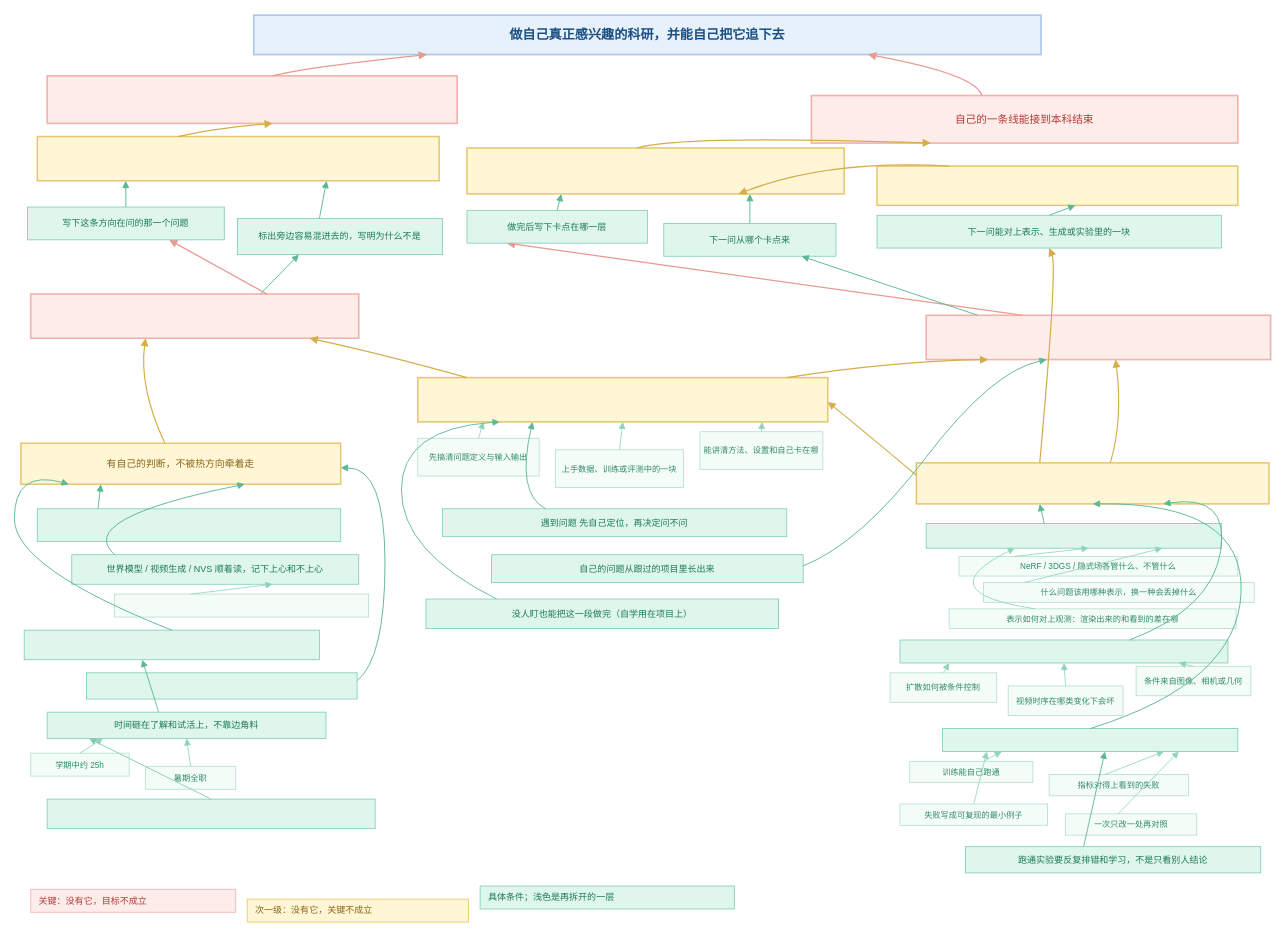
The diagram is 1286 pixels wide and 936 high, and some of its shapes have lost their labels. Here are the shapes that lost their labels. From the top down, the centre of each, then its label:
(252,99): 细方向能沿住，直到本科结束
(237,158): 能画出这条细方向的地图：它在问什么，旁边哪些不是
(655,170): 第一个做完，能指出下一问从哪个卡点长出来
(1057,185): 能力从「够跟项目」长到「够自己提下一问」
(194,316): 找到自己真正上心的细方向 验收：亲手试过至少两块不同的活，能说出上心和不上心的差别
(1098,337): 开得动自己的 project 验收：下一问从跟过的项目里长出来，不是另找一个热词
(622,399): 跟完一个项目并上手其中一块 能讲清自己做了什么、卡在哪
(1092,483): 表示、生成、实验够用 验收：能用这三块解释试过的活，并指出卡在哪
(188,525): 能够对研究领域建立自己的判断和了解
(1073,535): 三维表示
(241,605): 一篇论文能讲清问题、方法，以及自己信不信它的实验
(171,644): 从不同线上亲手各试一块
(1063,651): 生成
(221,685): 过一段再问：这还是不是我想做的
(1090,740): 实验
(210,813): 本科剩下的学期都留得住一块时间，不是只挤出一个学期
